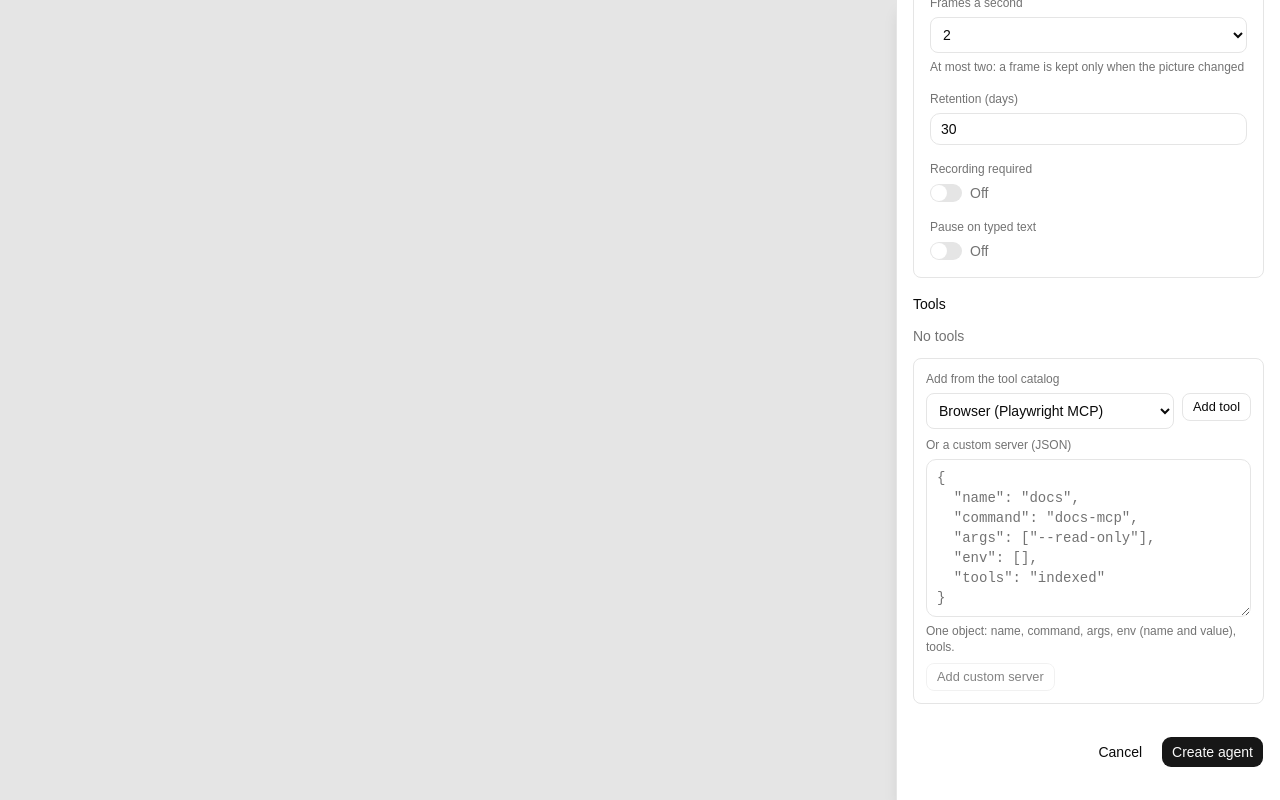
it: AgentSheet: create › adds a custom server written as JSON
(page scrolled)
Click the text box labelled "Or a custom server (JSON)".
click(1088, 538)  # box [926,459,1251,617]
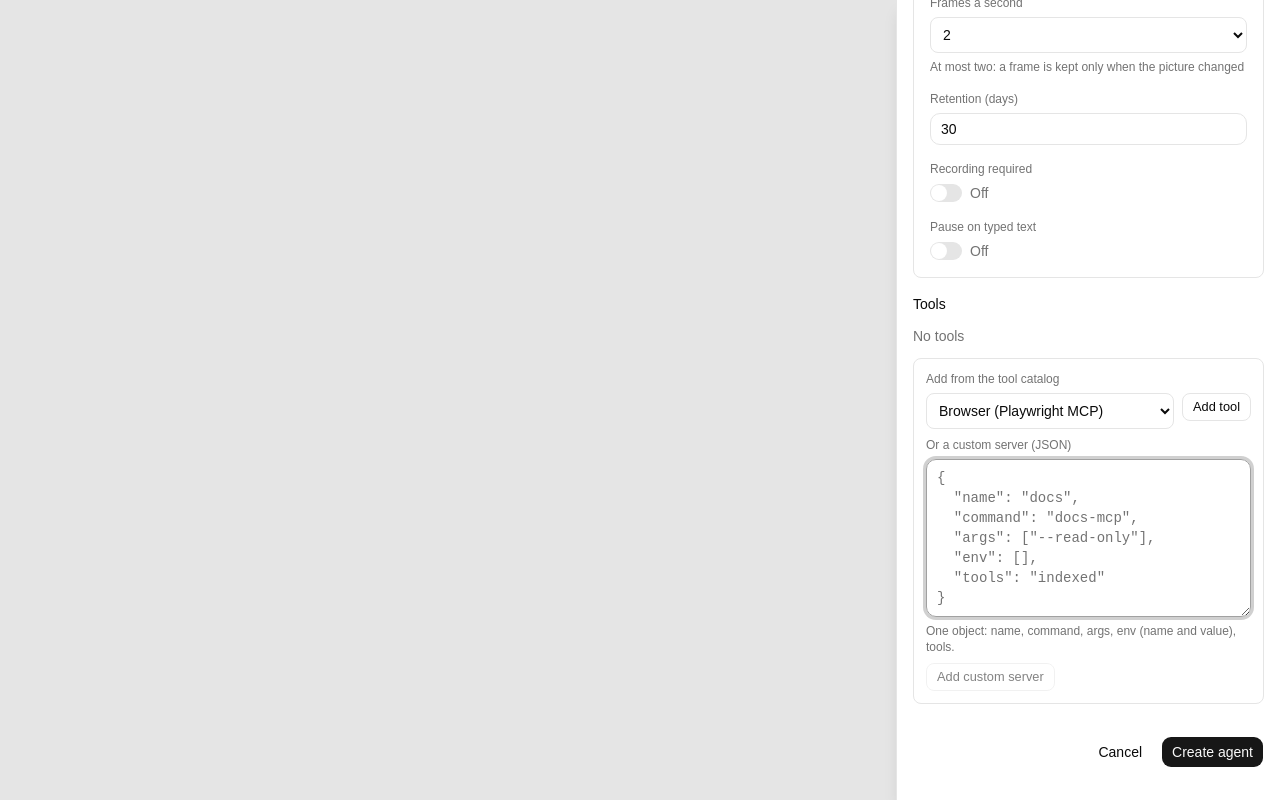
Type keys "{\"name\":\"docs\",\"command\":\"docs-mcp\",\"tools\":\"indexed\"}"
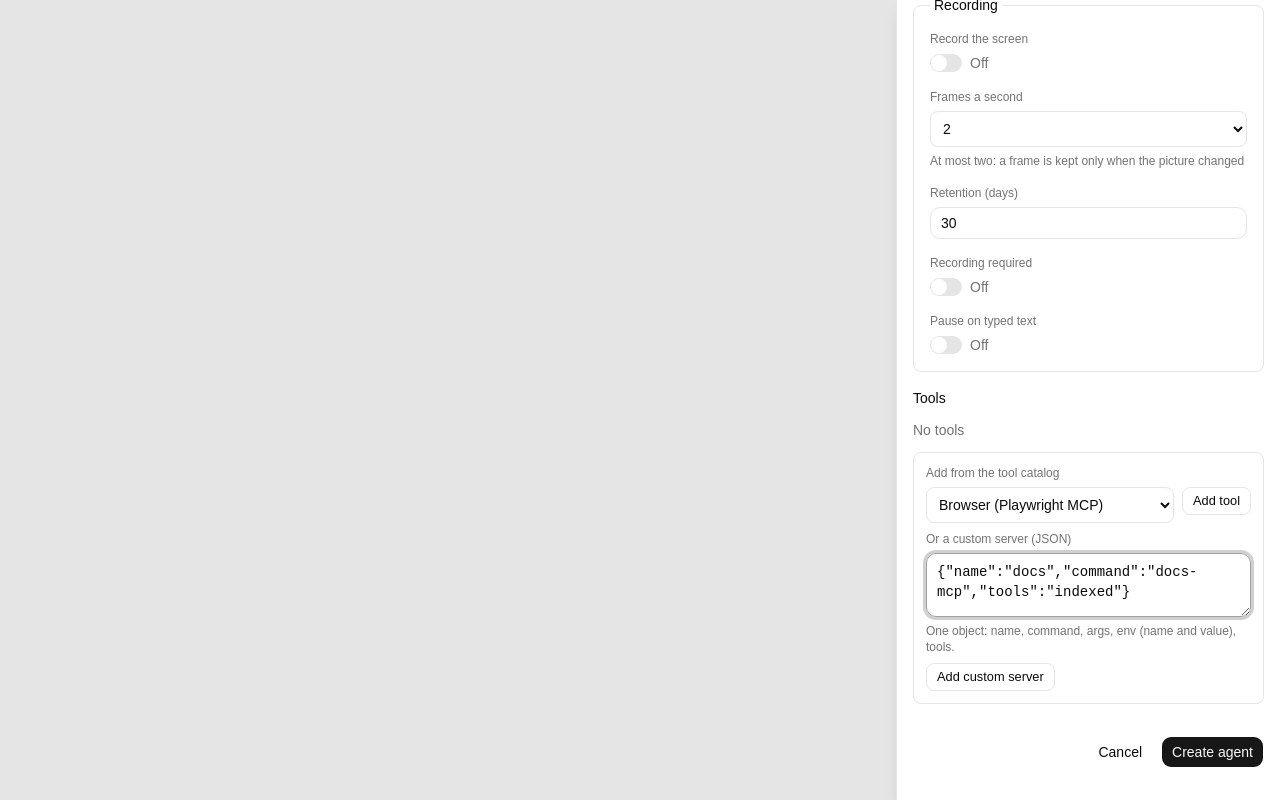
Click the button "Add custom server".
click(990, 677)  # box [926,663,1055,691]
(page scrolled)
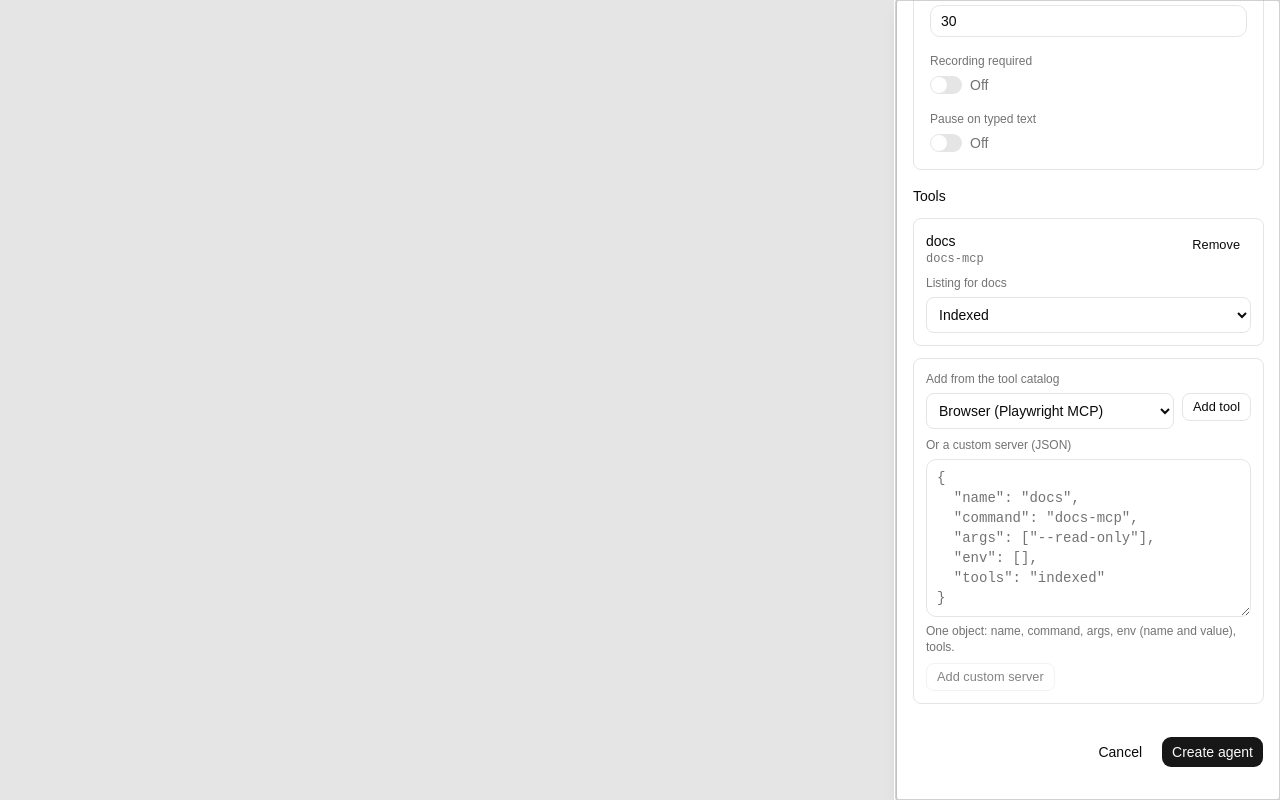
expect the button with aria-label "Remove docs" is shown: met, box [1181,231,1251,259]
expect the text box labelled "Or a custom server (JSON)" is empty: met, box [926,459,1251,617]
